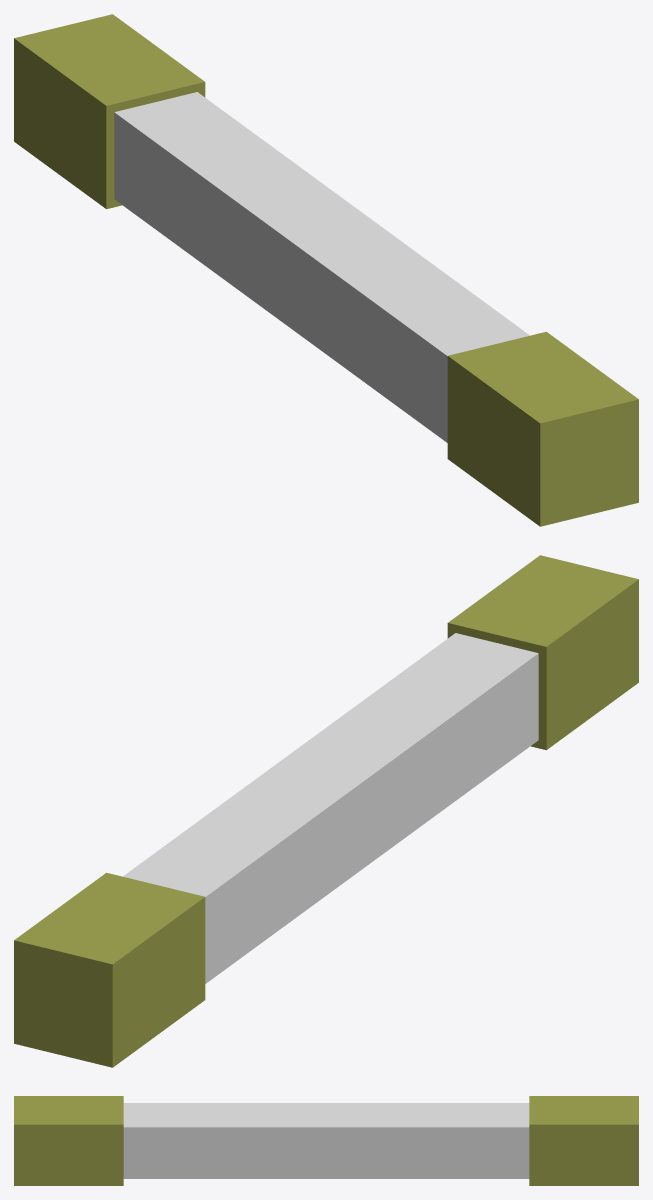
The model's file is 2fuseShikakuYellow.fbx.
The picture shows the model from 3 angles, top to bottom: view 1: azimuth 30°, elevation 25°; view 2: azimuth 150°, elevation 25°; view 3: azimuth 270°, elevation 25°; orthographic projection. The views are drawn at different scales.
Visible parts, largest first — view 1: 立方体; view 2: 立方体; view 3: 立方体.
Boxes of the visible parts, x1=… form: 立方体: x1=14, y1=14, x2=638, y2=526; 立方体: x1=14, y1=555, x2=638, y2=1067; 立方体: x1=14, y1=1096, x2=638, y2=1185.
Bounding box in the file's own units: 238 × 238 × 2193.
